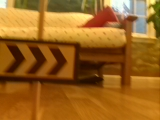right: (1, 40, 78, 82)
